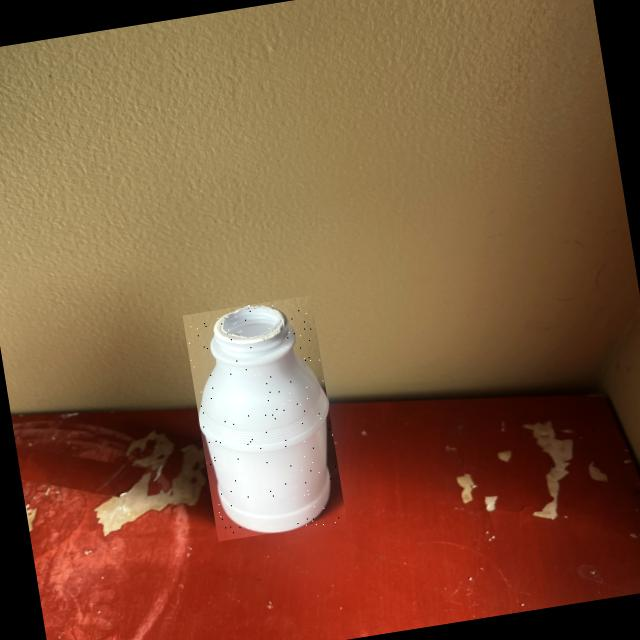HDPE_Bottle: (198, 306, 329, 532)
